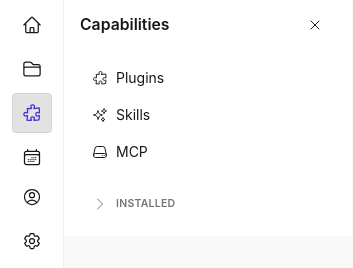
Test: ProjectSidebar › renders plugin and skill navigation with collapsed installed plugins
Expected: the button "Plugins" is shown, [80,61,336,94]
Expected: the button "Skills" is shown, [80,98,336,131]
Click the heading "Installed": x=134, y=204 [92,196,176,212]
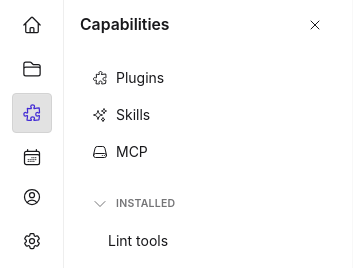
Now the text "Lint tools" is shown, box [108,230,168,251]
